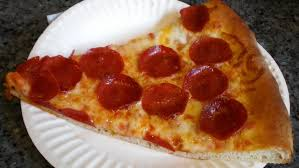pizza: (9, 7, 293, 159)
